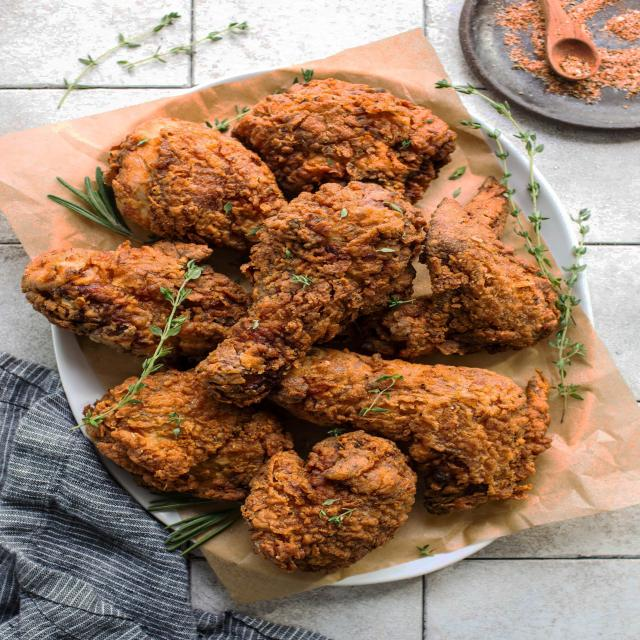fried_chicken: (197, 181, 426, 408), (278, 346, 551, 512), (86, 370, 294, 502), (235, 78, 457, 200), (22, 243, 250, 356), (243, 430, 418, 575), (425, 176, 558, 355), (108, 117, 286, 249)
